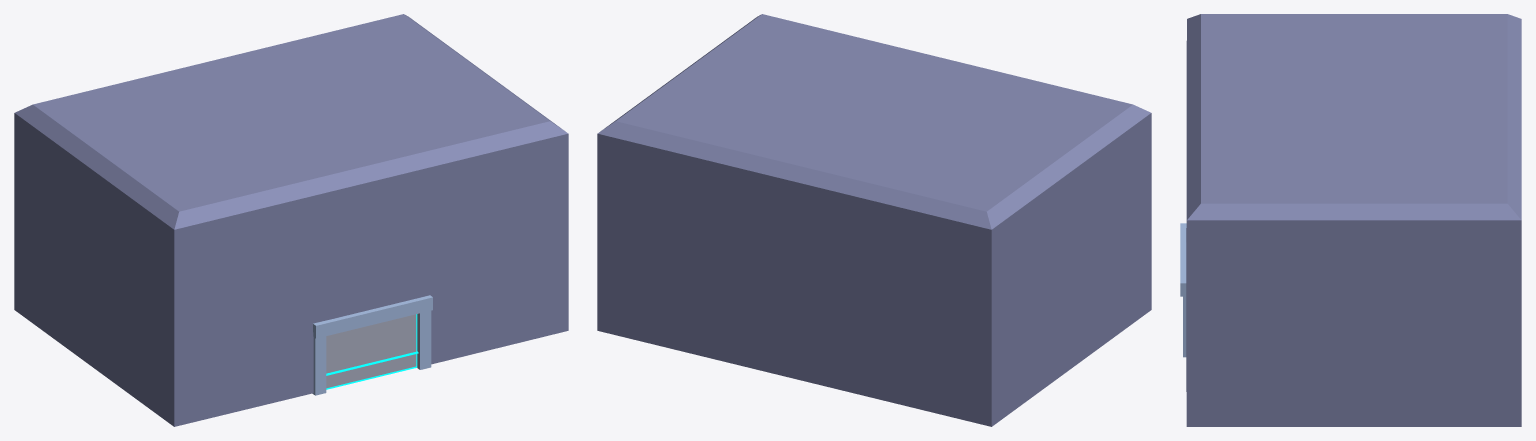
Rendered from Labbuilding.fbx_Main_Lab_Entrance.fbx.
3 renders of one model, left to right at view 1: azimuth 30°, elevation 25°; view 2: azimuth 150°, elevation 25°; view 3: azimuth 270°, elevation 25°, orthographic. The views are drawn at different scales.
Visible parts, largest first — view 1: Lab Building, Door, Door Frame; view 2: Lab Building; view 3: Lab Building, Door Frame.
Boxes of the visible parts, x1,y1,x2,y2 form: Lab Building: [14, 14, 568, 426]; Door: [326, 314, 418, 389]; Door Frame: [312, 295, 432, 395]; Lab Building: [597, 14, 1151, 426]; Lab Building: [1186, 14, 1521, 426]; Door Frame: [1180, 223, 1186, 357].
Size of the model in its own units: 1401 by 709 by 1003.
